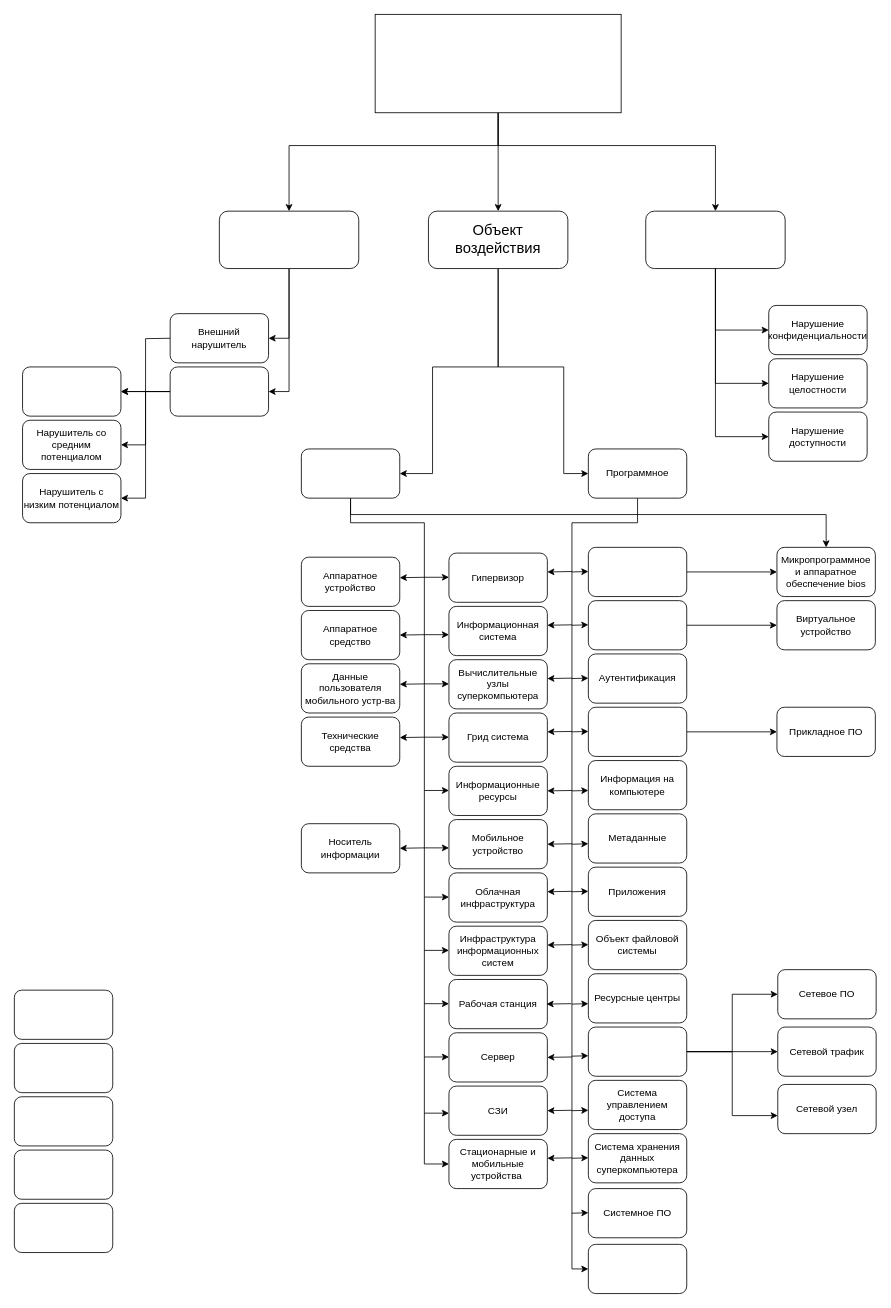
The diagram is 891 pixels wide and 1308 high, and some of its shapes have lost their labels. The centre of each missing label's shape, as x and y in pixels:
Аппаратное: the point at 350,473
Виртуальная машина: the point at 637,625
Внутренний нарушитель: the point at 219,391
Источник угрозы: the point at 289,239
Классификация УБИ: the point at 497,63
Микропрограммное: the point at 637,572
Нарушитель с высоким потенциалом: the point at 71,391
Последствия: the point at 715,239
Программное обеспечение: the point at 637,731
Сеть: the point at 637,1051
Хранилище больших данных: the point at 637,1269
